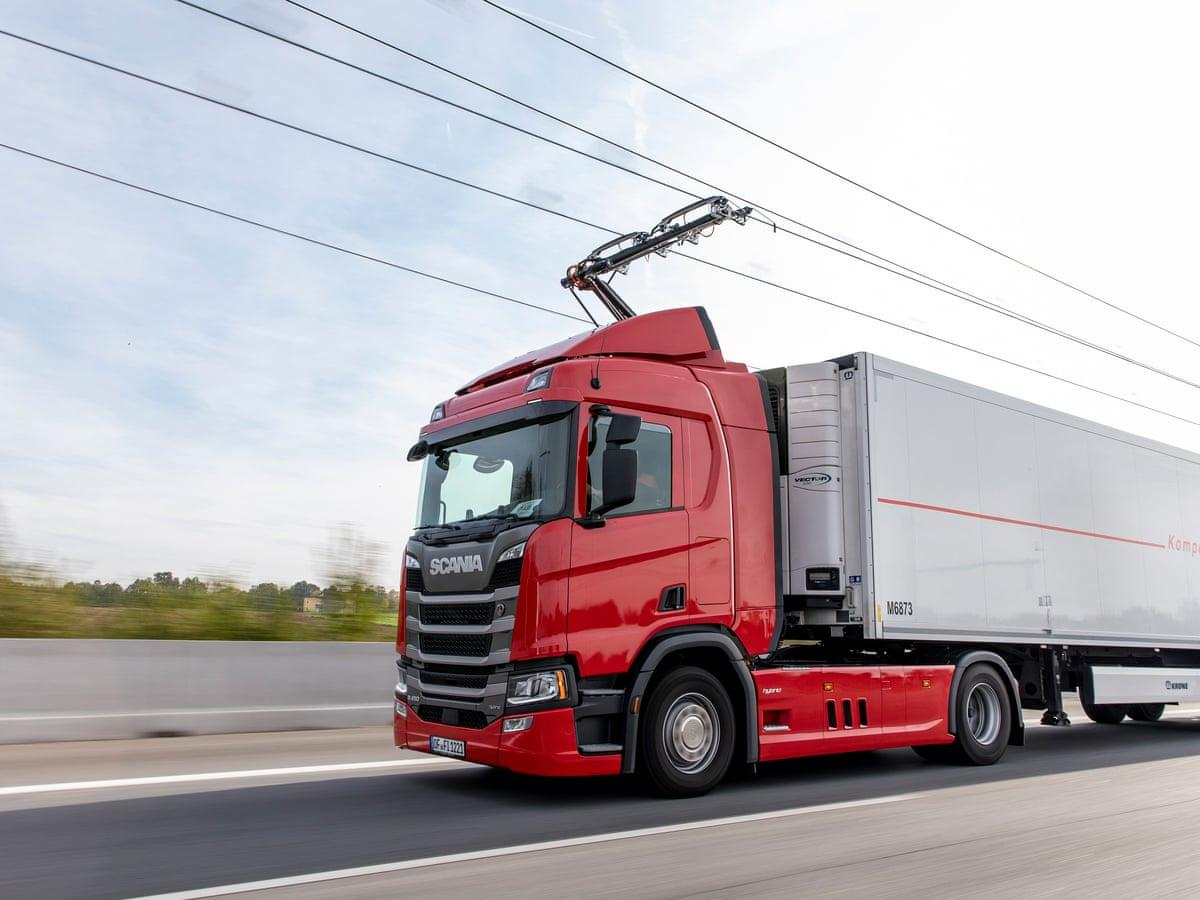truck: (392, 306, 1200, 799)
